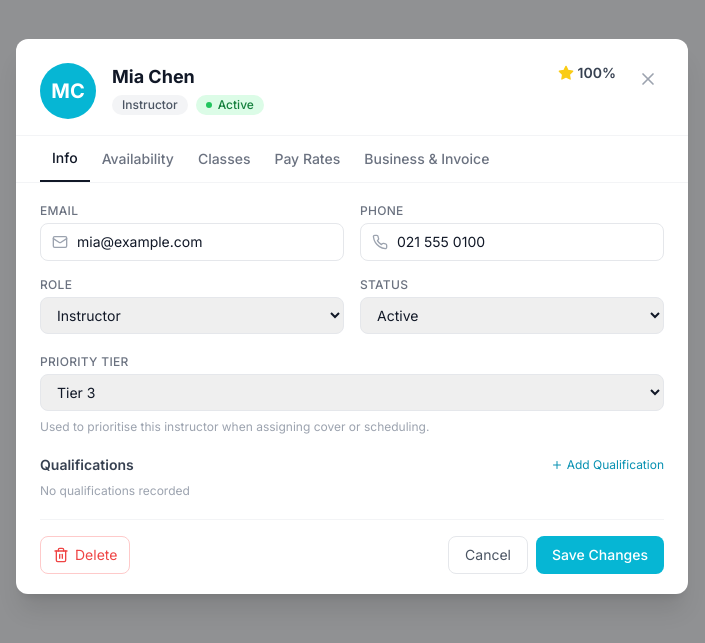
Test: StaffDetailModal — other tabs › shows availability saved from My Profile, whatever time its band started
The width and height of the screenshot is (705, 643).
What coordinates should you click on to do the following:
click the button "Availability"
I would click on:
 (138, 158)
Its box is [90,136,186,182].
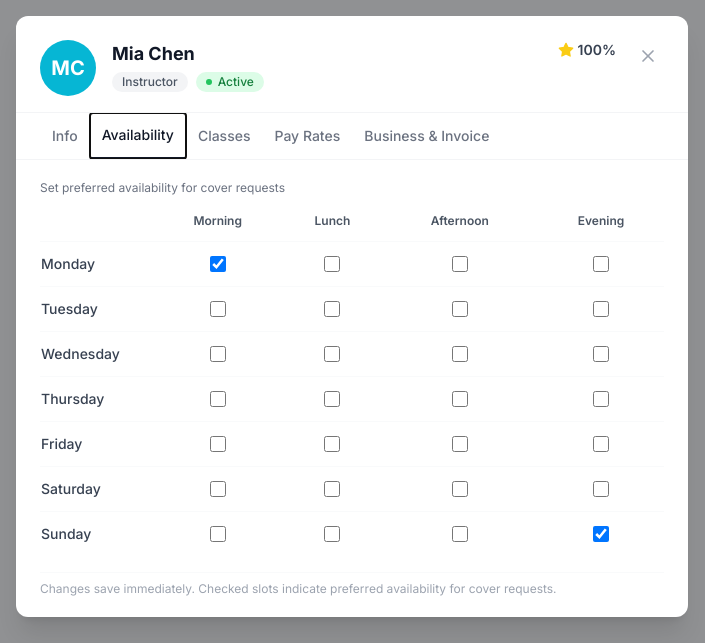
Now the checkbox named "Monday Morning" is checked, box [210,256,226,272]
Now the checkbox named "Sunday Evening" is checked, box [593,526,609,542]
Now the checkbox named "Monday Evening" is not checked, box [593,256,609,272]
